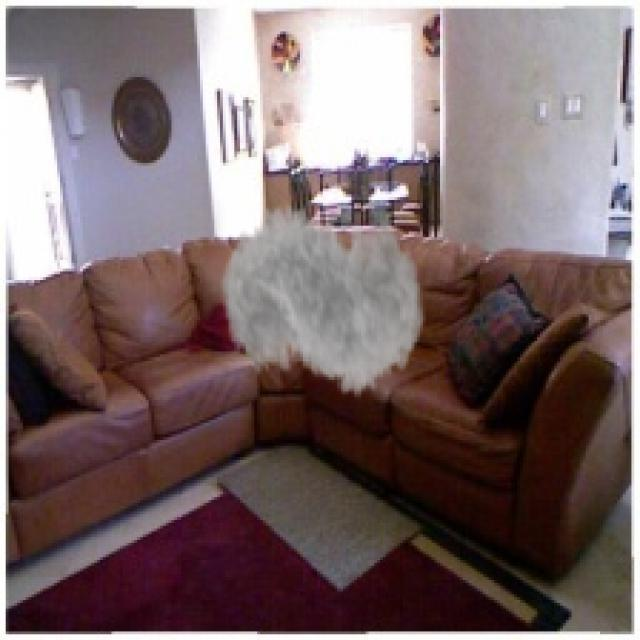Smoke: (220, 180, 426, 414)
